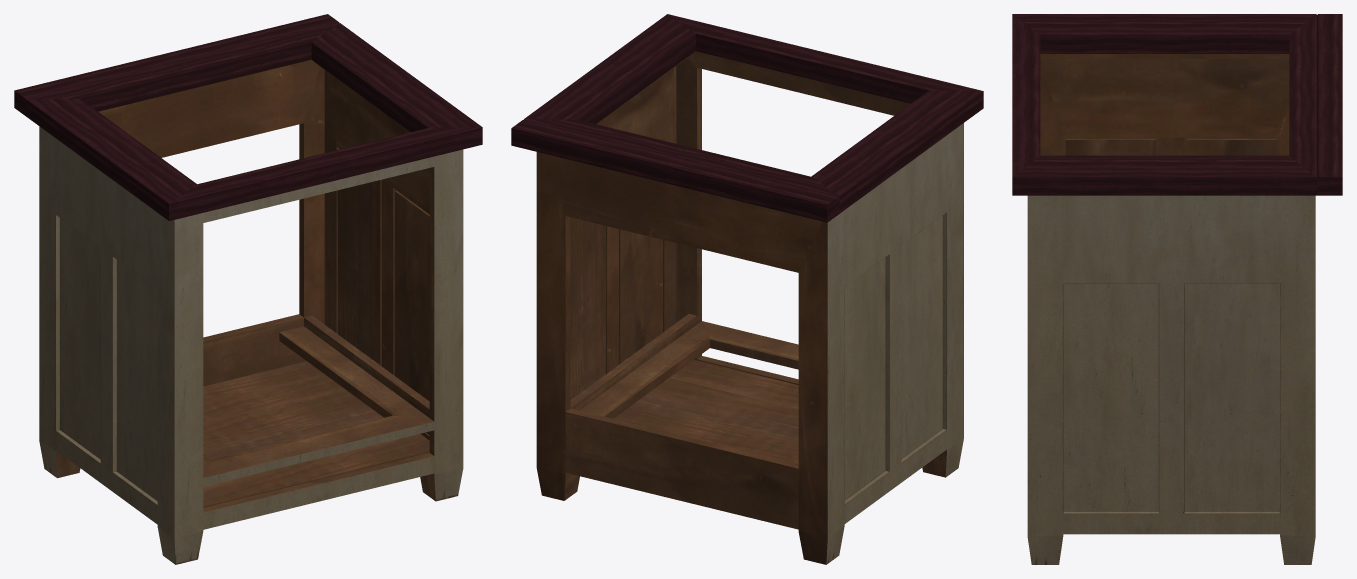
File: example104.glb
The picture shows the model from 3 angles, left to right: view 1: azimuth 30°, elevation 25°; view 2: azimuth 150°, elevation 25°; view 3: azimuth 270°, elevation 25°; orthographic projection. The views are drawn at different scales.
Visible parts, largest first — view 1: Buffer Layer (×3); view 2: Buffer Layer (×3); view 3: Buffer Layer (×3).
Part boxes in pixels (x1,y1,x2,y2): Buffer Layer (×3): [14, 14, 482, 564]; Buffer Layer (×3): [511, 14, 983, 564]; Buffer Layer (×3): [1012, 14, 1342, 564].
Bounding box in the file's own units: 0.7 × 0.7921 × 0.5987.
Materials: 3 (3 with a texture image).
